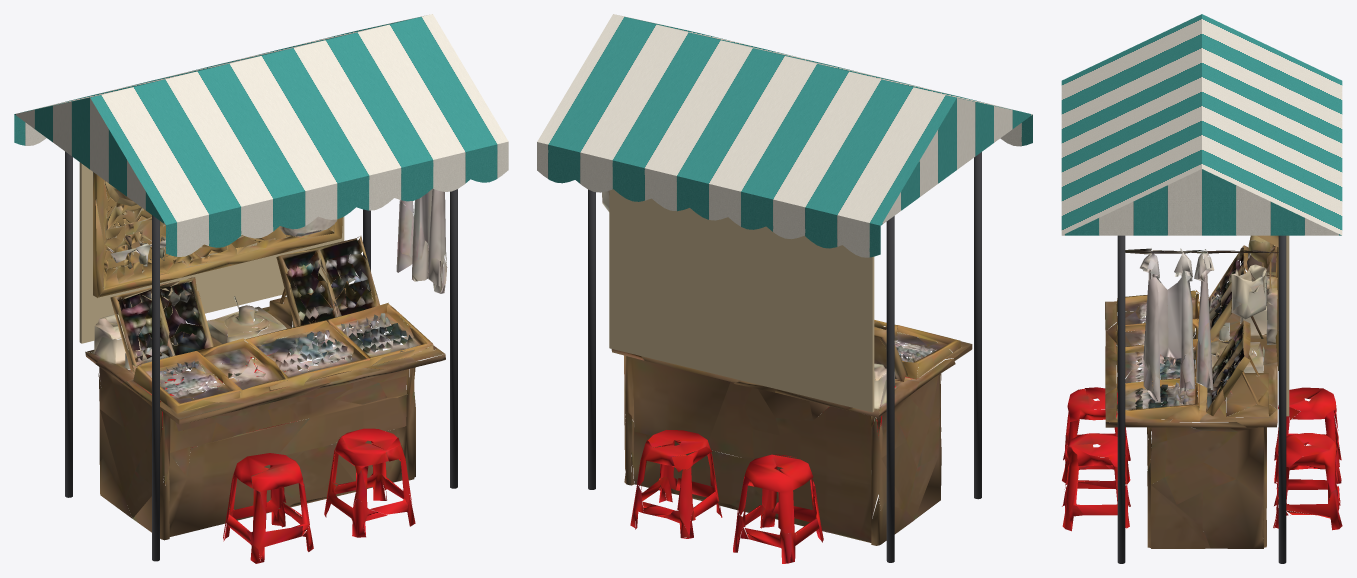
Rendered from stall-accessories.glb.
3 renders of one model, left to right at view 1: azimuth 30°, elevation 25°; view 2: azimuth 150°, elevation 25°; view 3: azimuth 270°, elevation 25°, orthographic. The views are drawn at different scales.
Parts seen in each view (by area): view 1: AR2_Stall_Accessories; view 2: AR2_Stall_Accessories; view 3: AR2_Stall_Accessories.
Part boxes in pixels (left/top/right/bottom): AR2_Stall_Accessories: left=14, top=14, right=508, bottom=563; AR2_Stall_Accessories: left=537, top=14, right=1032, bottom=563; AR2_Stall_Accessories: left=1061, top=14, right=1342, bottom=563.
Bounding box in the file's own units: 2.14 × 2.6 × 1.64.
4 materials, 2 textured.
